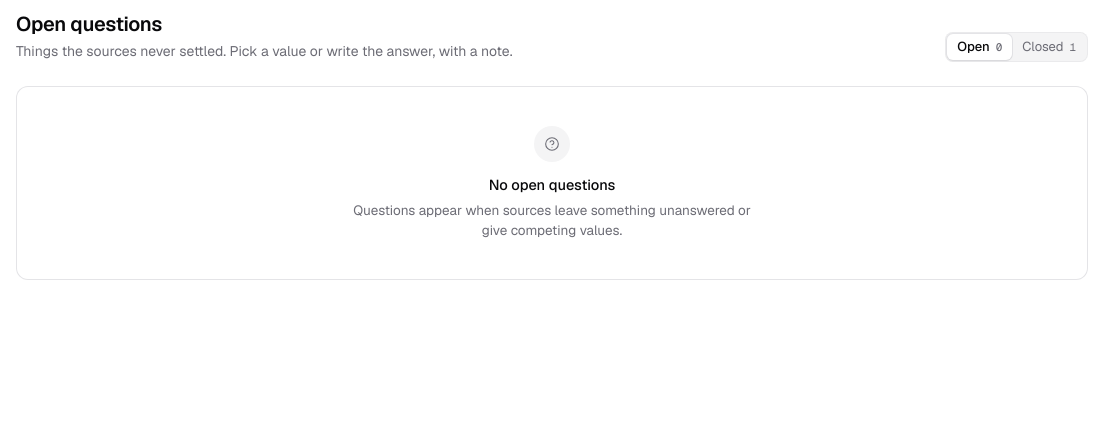
Test: OpenQuestions › a closed question without an answering fact shows no "Answered by"
Click the tab named "Closed1" at {"x": 1049, "y": 47}, box [1012,34,1086,60]
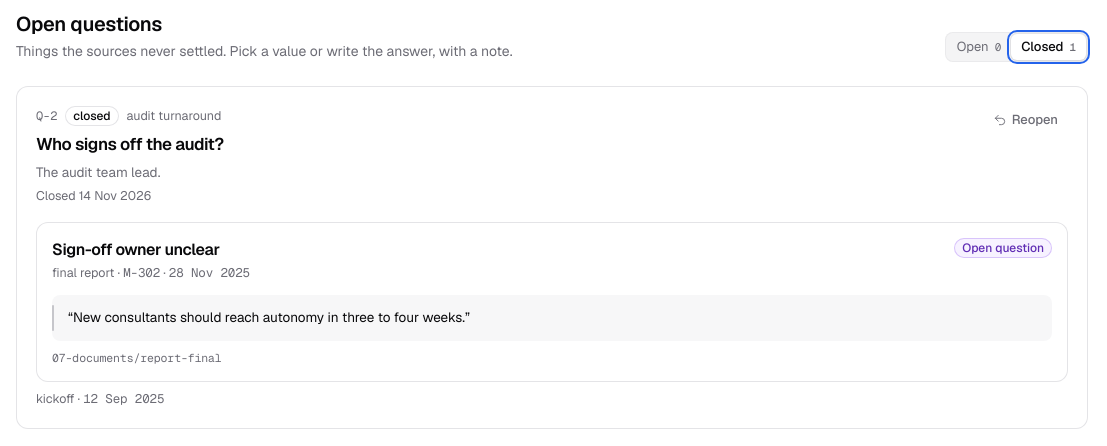
Check: the text "Sign-off owner unclear" is shown, box [52,239,220,260]
